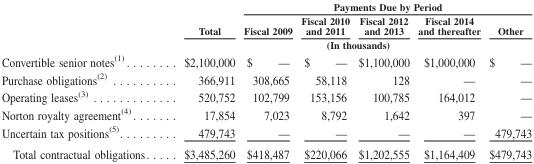table: (0, 0, 531, 160)
table column: (0, 0, 165, 160), (165, 0, 238, 160), (413, 0, 484, 160), (353, 0, 413, 160), (238, 0, 296, 160), (296, 0, 353, 160), (484, 0, 531, 160)
table column header: (0, 0, 531, 51)
table row: (0, 13, 531, 37), (0, 122, 531, 143), (0, 51, 531, 69), (0, 69, 531, 87), (0, 104, 531, 122), (0, 87, 531, 104), (0, 143, 531, 160), (0, 37, 531, 51), (0, 0, 531, 13)
table spanning cell: (165, 37, 531, 51), (238, 0, 531, 13), (165, 0, 238, 37)
